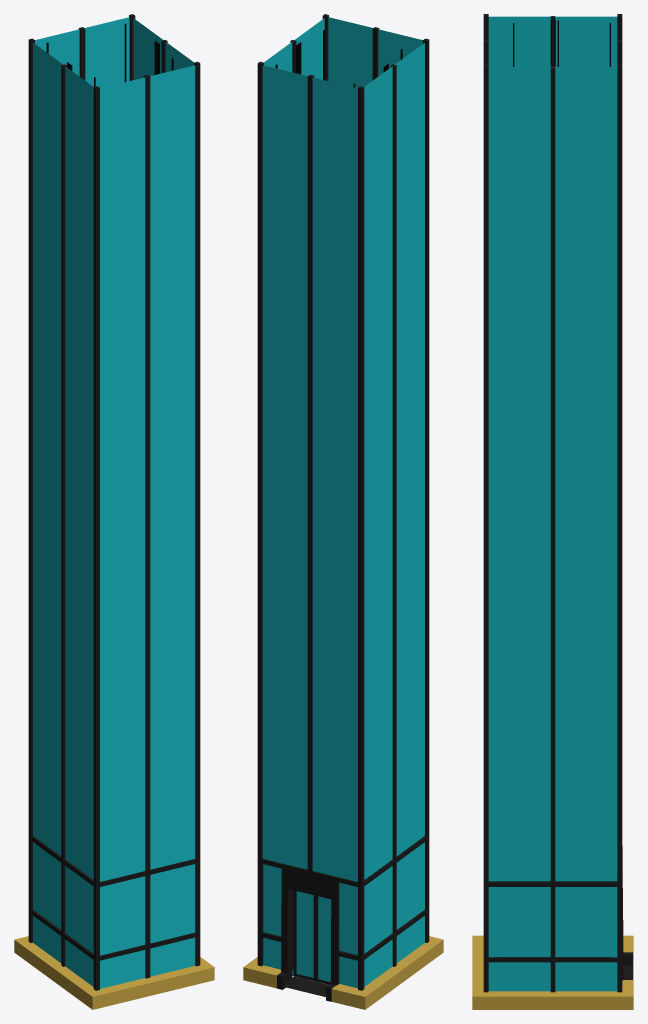
File: Lift-Subway.obj
The picture shows the model from 3 angles, left to right: view 1: azimuth 30°, elevation 25°; view 2: azimuth 150°, elevation 25°; view 3: azimuth 270°, elevation 25°; orthographic projection. The views are drawn at different scales.
Parts seen in each view (by area): view 1: BackUpWithMirror.001_Cube.004; view 2: BackUpWithMirror.001_Cube.004; view 3: BackUpWithMirror.001_Cube.004.
Part boxes in pixels (<box>): BackUpWithMirror.001_Cube.004: <box>14,14,214,1009</box>; BackUpWithMirror.001_Cube.004: <box>243,14,443,1009</box>; BackUpWithMirror.001_Cube.004: <box>472,14,633,1009</box>.
Size of the model in its own units: 2.89 by 20.81 by 3.22.
